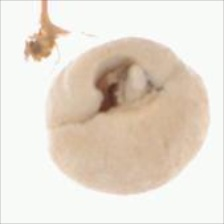L3: (90, 54, 163, 113)
L4: (47, 36, 211, 195)
